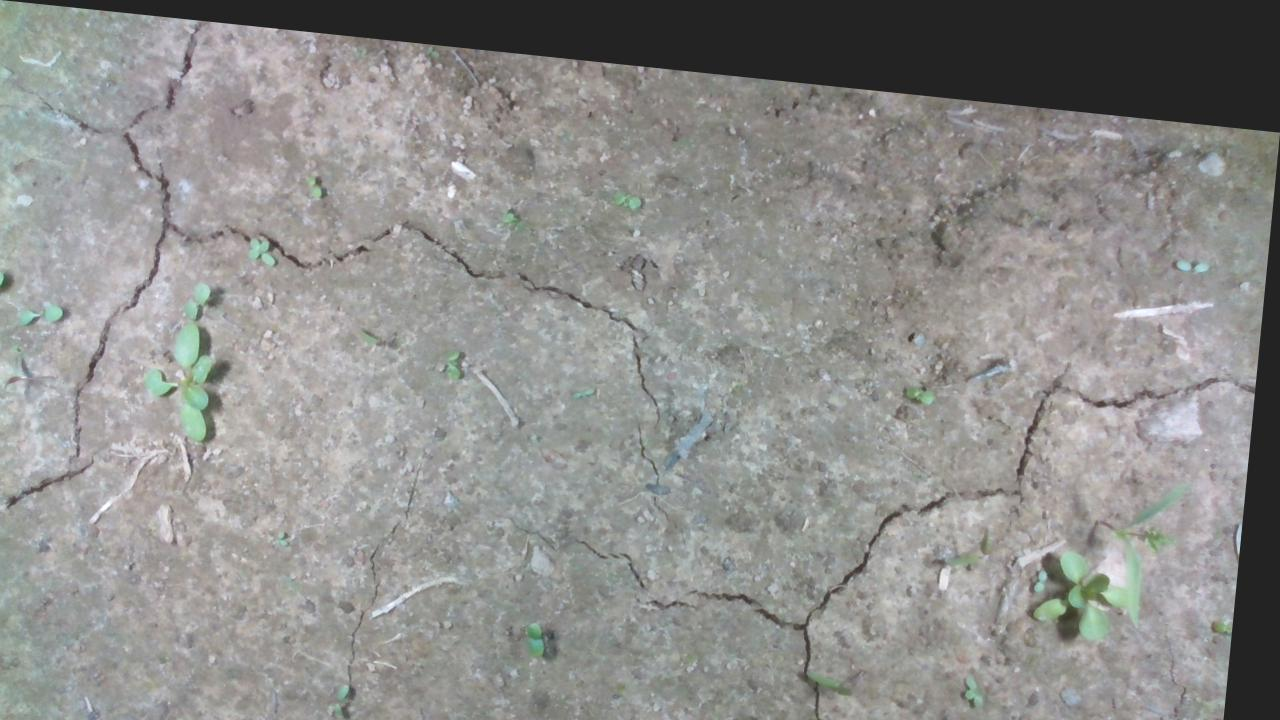weed: (241, 223, 287, 266), (18, 296, 73, 328), (528, 606, 568, 649), (969, 645, 1002, 686), (188, 274, 218, 315), (442, 335, 475, 366), (909, 360, 942, 385), (620, 176, 653, 198), (303, 165, 327, 194)
